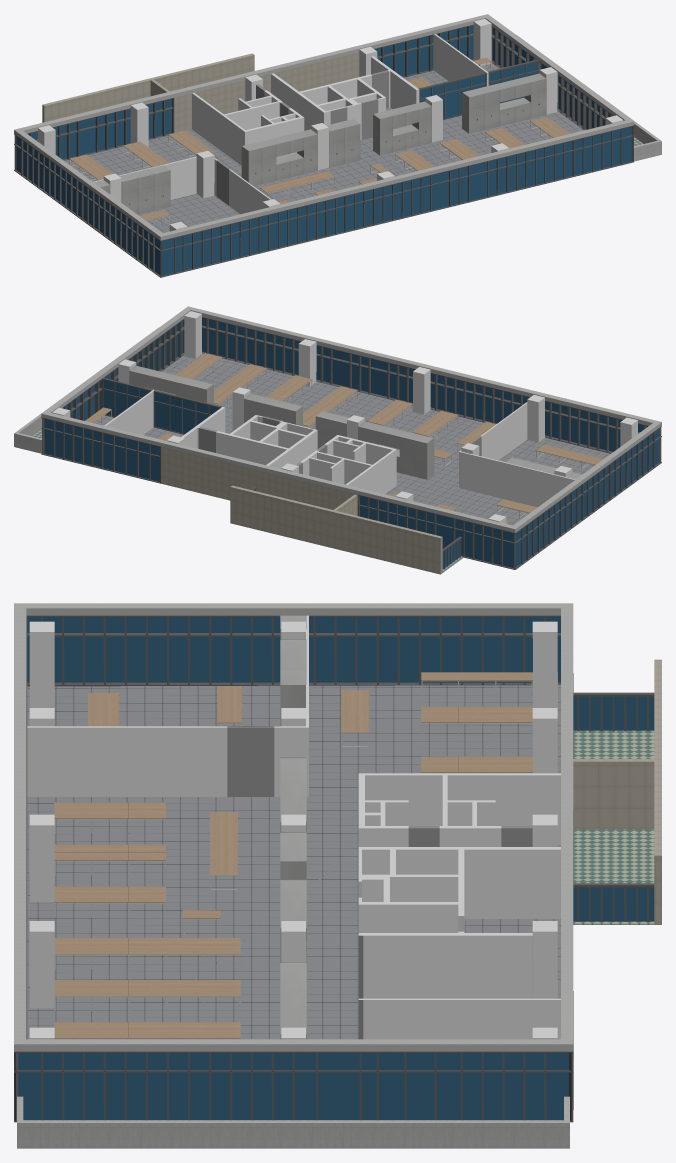
The model's file is three.glb.
3 renders of one model, top to bottom at view 1: azimuth 30°, elevation 25°; view 2: azimuth 150°, elevation 25°; view 3: azimuth 270°, elevation 25°, orthographic. The views are drawn at different scales.
Visible parts, largest first — view 1: di; view 2: di; view 3: di.
Boxes of the visible parts, x1=… form: di: x1=14, y1=14, x2=661, y2=277; di: x1=14, y1=306, x2=661, y2=574; di: x1=14, y1=603, x2=661, y2=1148.
Bounding box in the file's own units: 35.61 × 2.78 × 20.85.
Materials: 11 (6 with a texture image).
